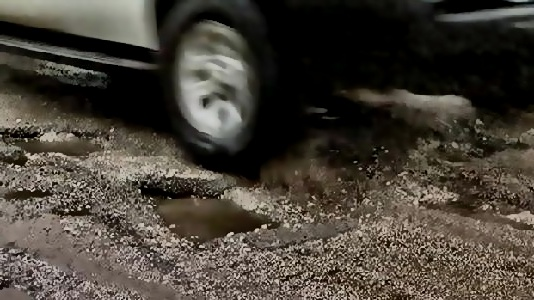pothole: (142, 176, 290, 247), (1, 123, 113, 169), (53, 197, 94, 217), (2, 187, 56, 201), (1, 282, 44, 299)
